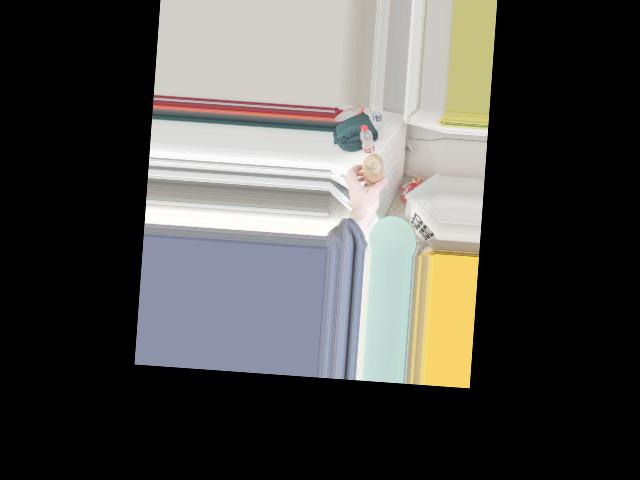sweet_potato: (355, 153, 387, 191)
